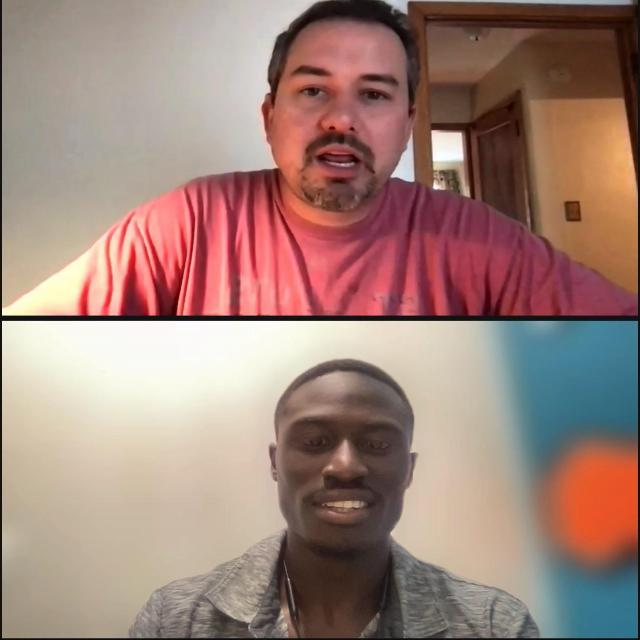face: (264, 361, 419, 560), (268, 10, 419, 211)
